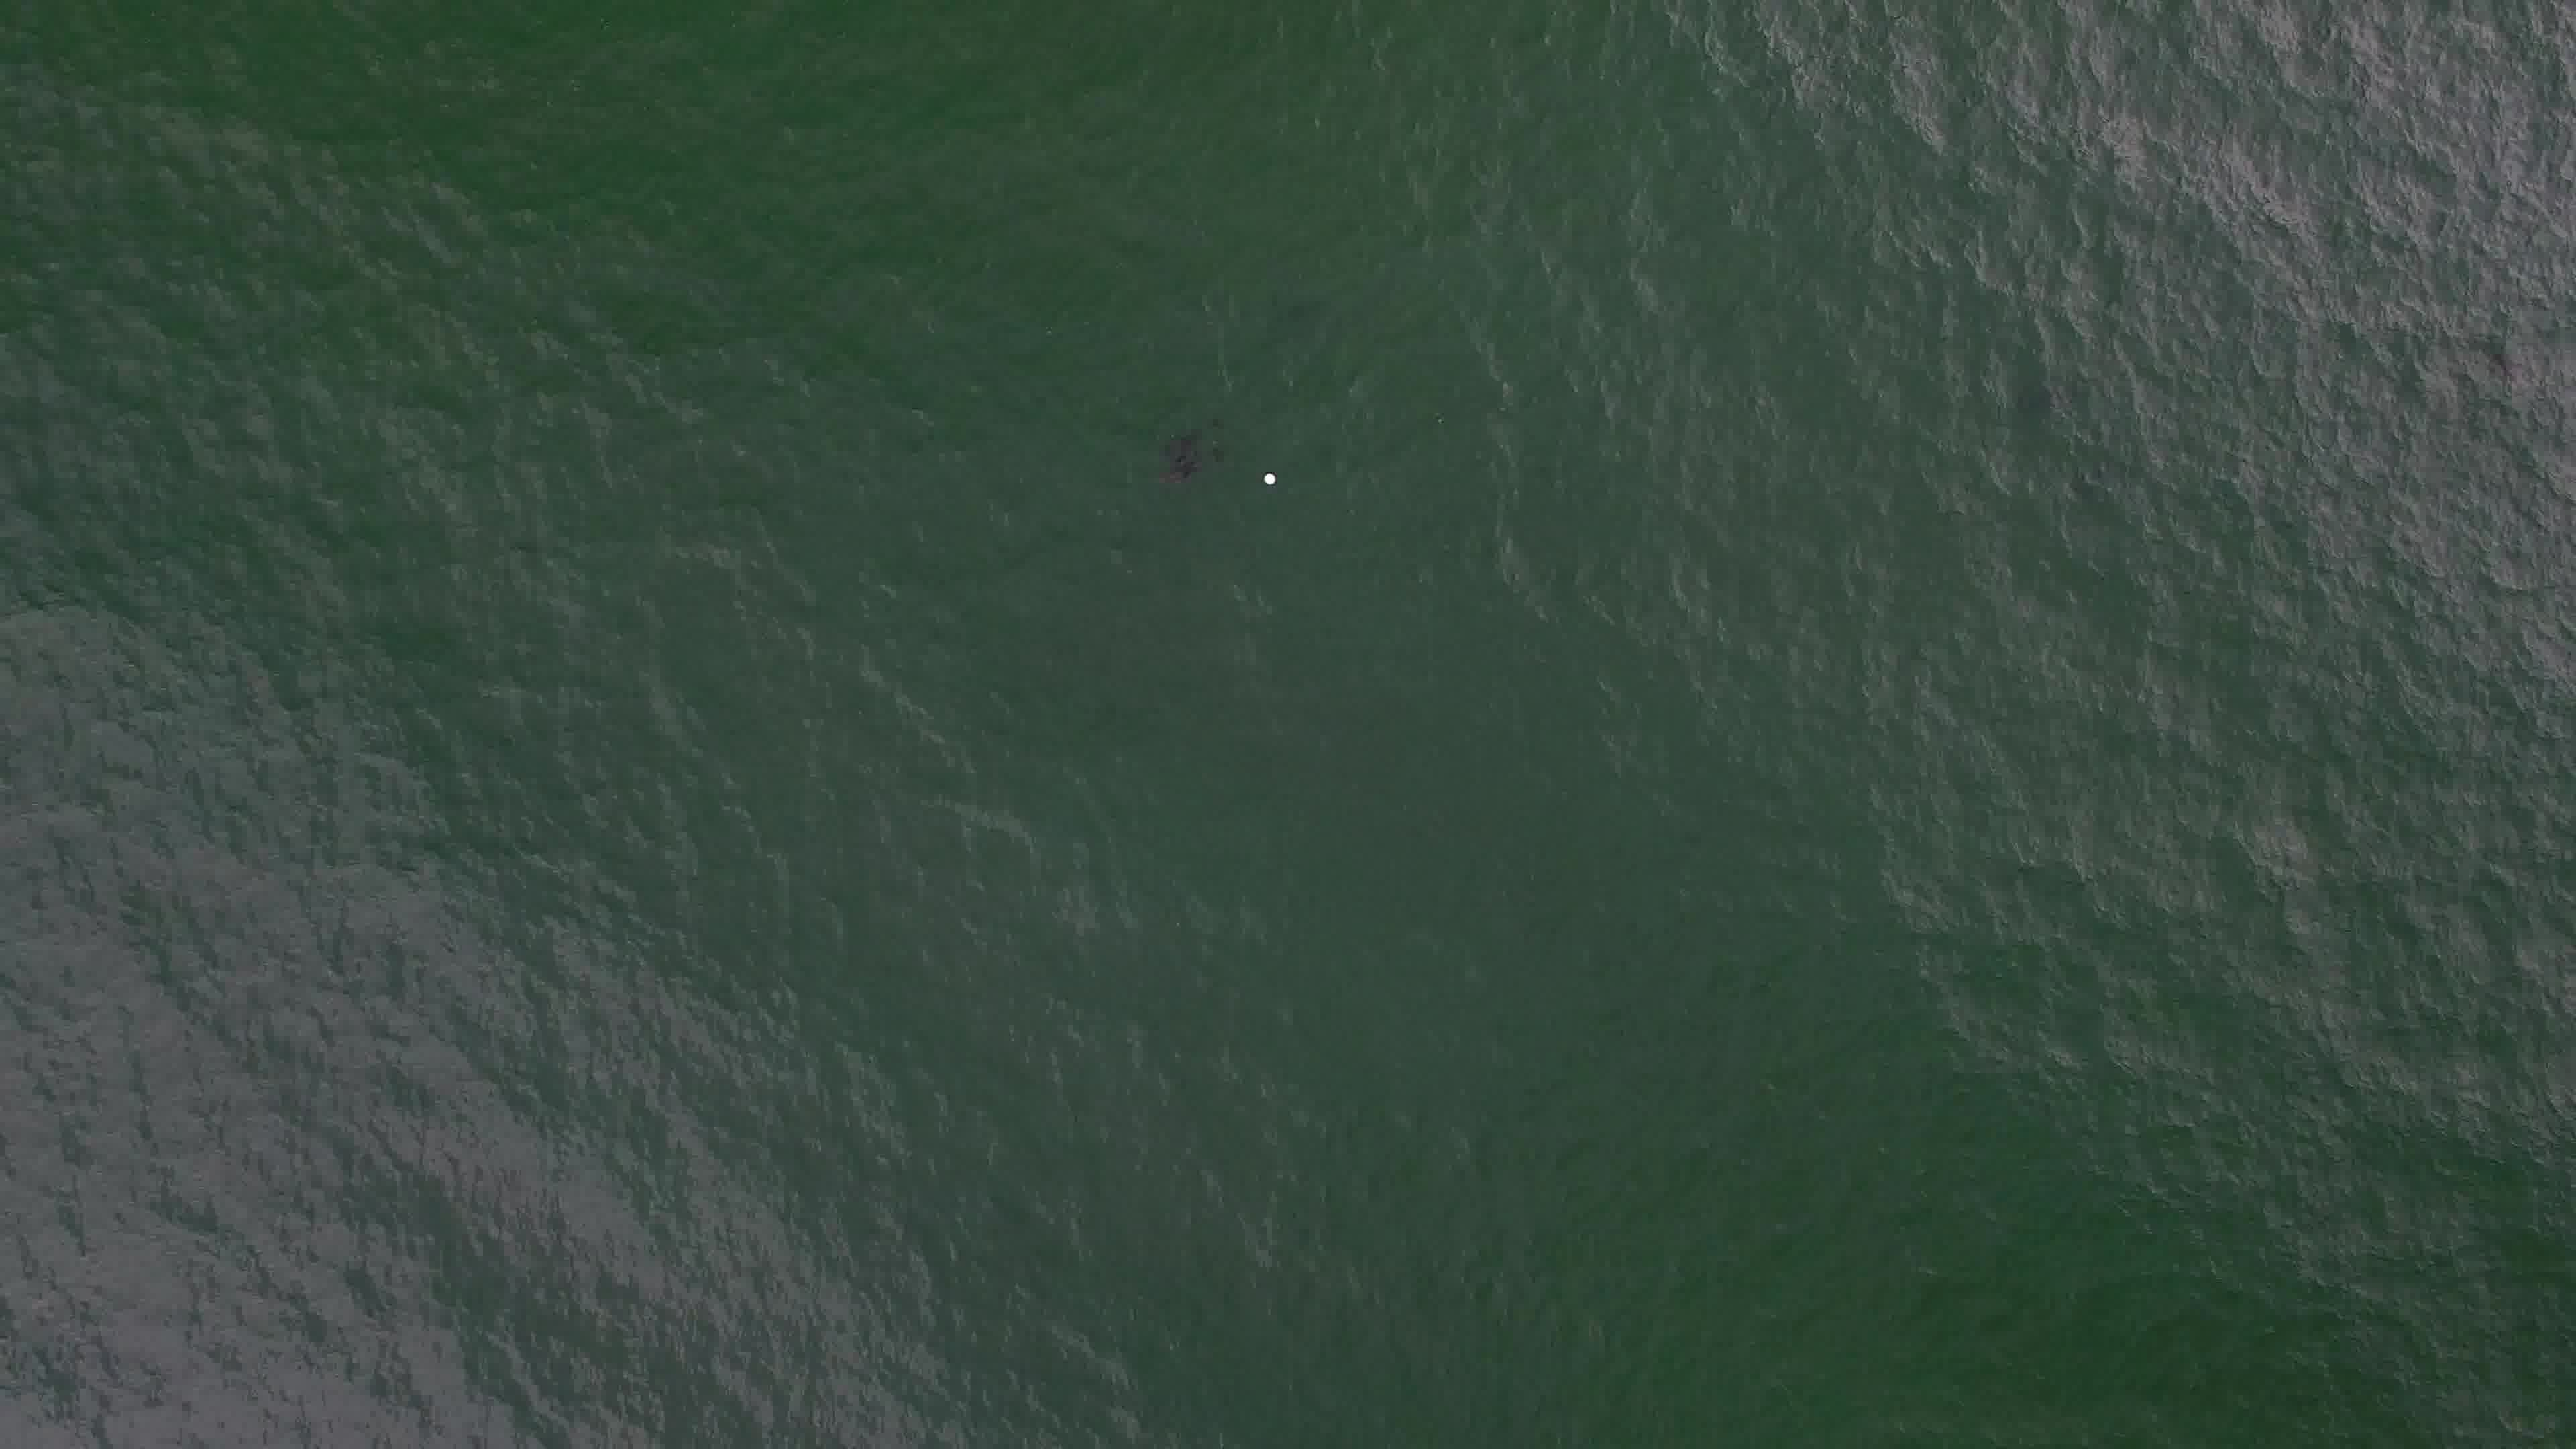dolphin: (1136, 416, 1233, 487)
